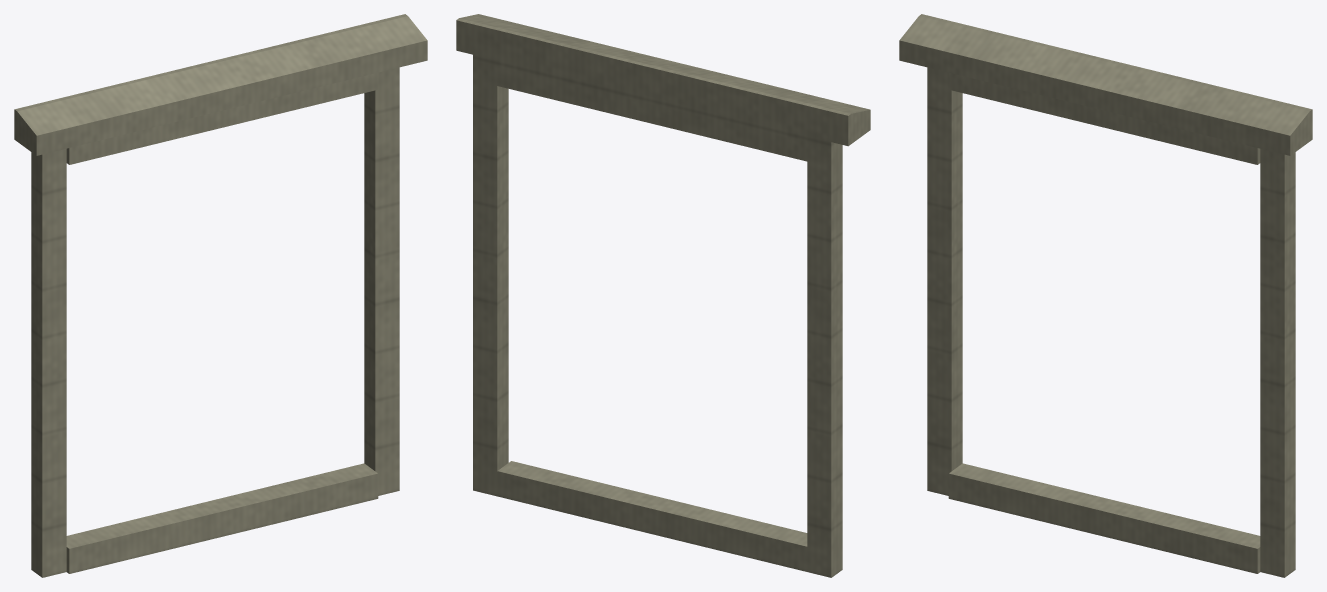
File: residential-cedar-window-surround.lod1.glb
3 renders of one model, left to right at view 1: azimuth 30°, elevation 25°; view 2: azimuth 150°, elevation 25°; view 3: azimuth 330°, elevation 25°, orthographic.
Visible parts, largest first — view 1: residential-cedar-window-surround; view 2: residential-cedar-window-surround; view 3: residential-cedar-window-surround.
Part boxes in pixels (left/top/right/bottom): residential-cedar-window-surround: left=14, top=14, right=427, bottom=577; residential-cedar-window-surround: left=456, top=14, right=870, bottom=577; residential-cedar-window-surround: left=899, top=14, right=1312, bottom=577.
Size of the model in its own units: 1.62 by 1.84 by 0.16.
Materials: 1 (1 with a texture image).
